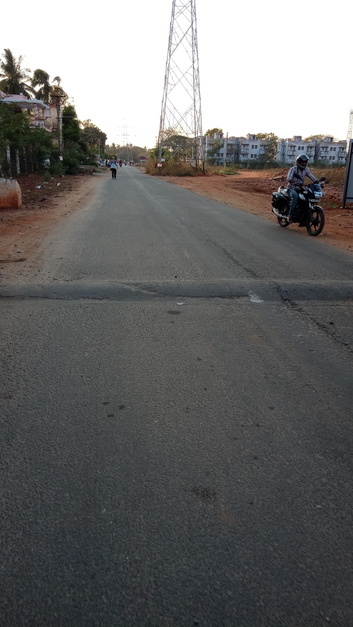bump: (1, 276, 353, 303)
